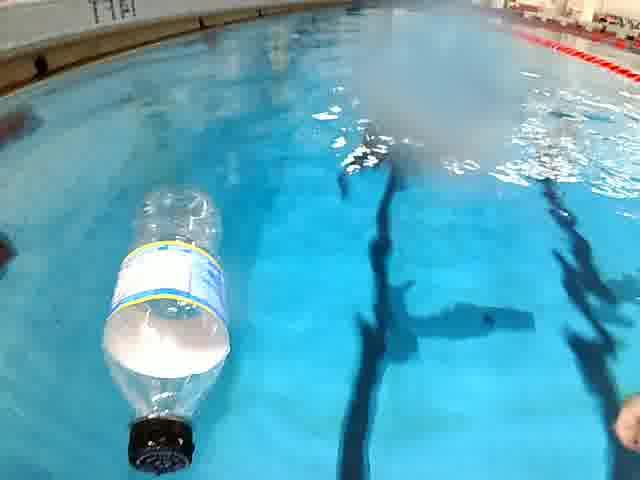Bottle: (96, 174, 236, 480)
